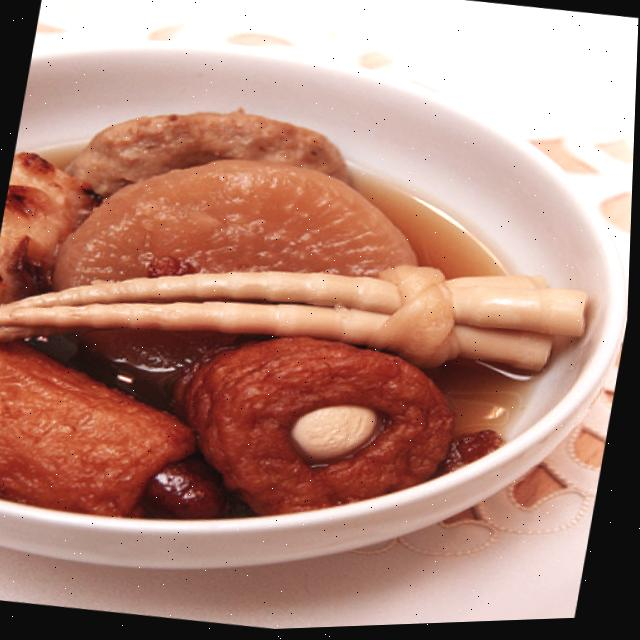汤锅炖物: (0, 68, 614, 580)
